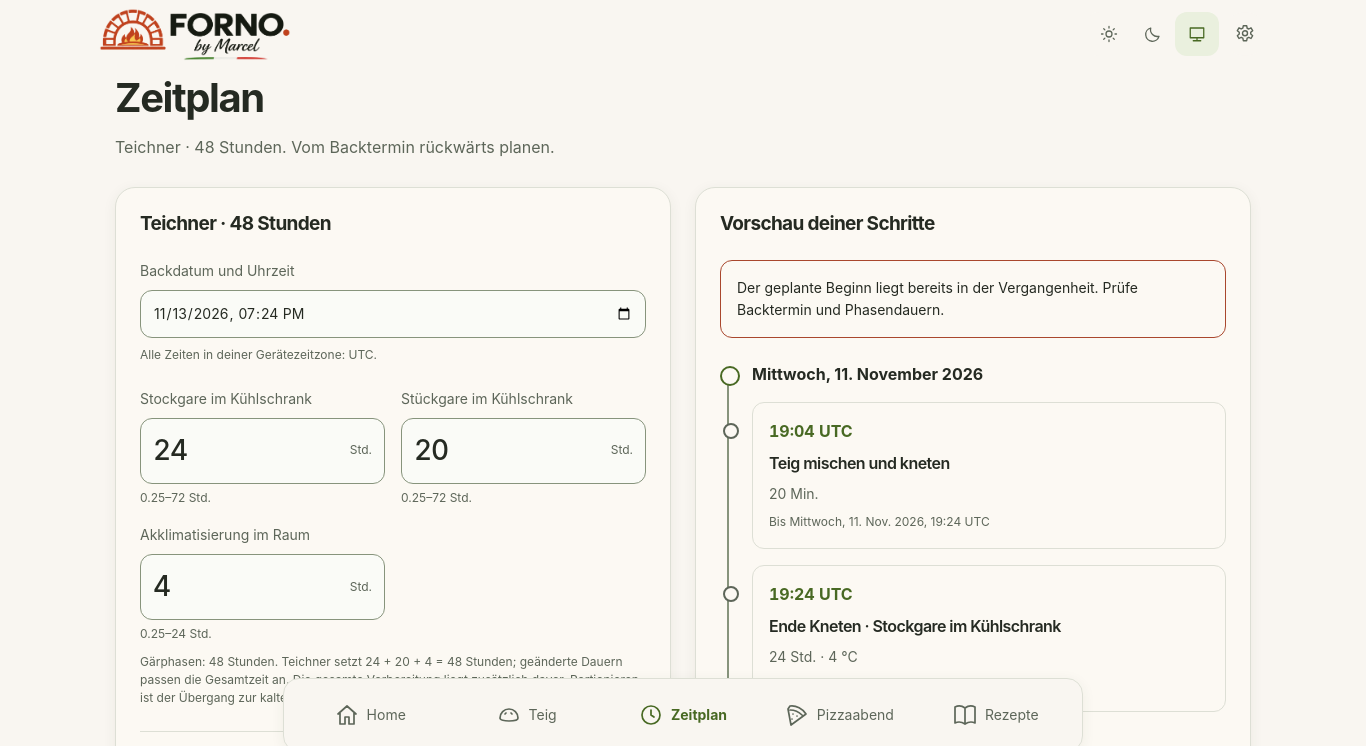
P2 schedule integration › previews edits, saves explicitly and exposes the next planned step on Home without touching the formula
Step 1. Replace the text in the field labelled "Stockgare im Kühlschrank Std. 0.25–72 Std." with "3,5" → (247, 450), box [153,426,342,474]
(page scrolled)
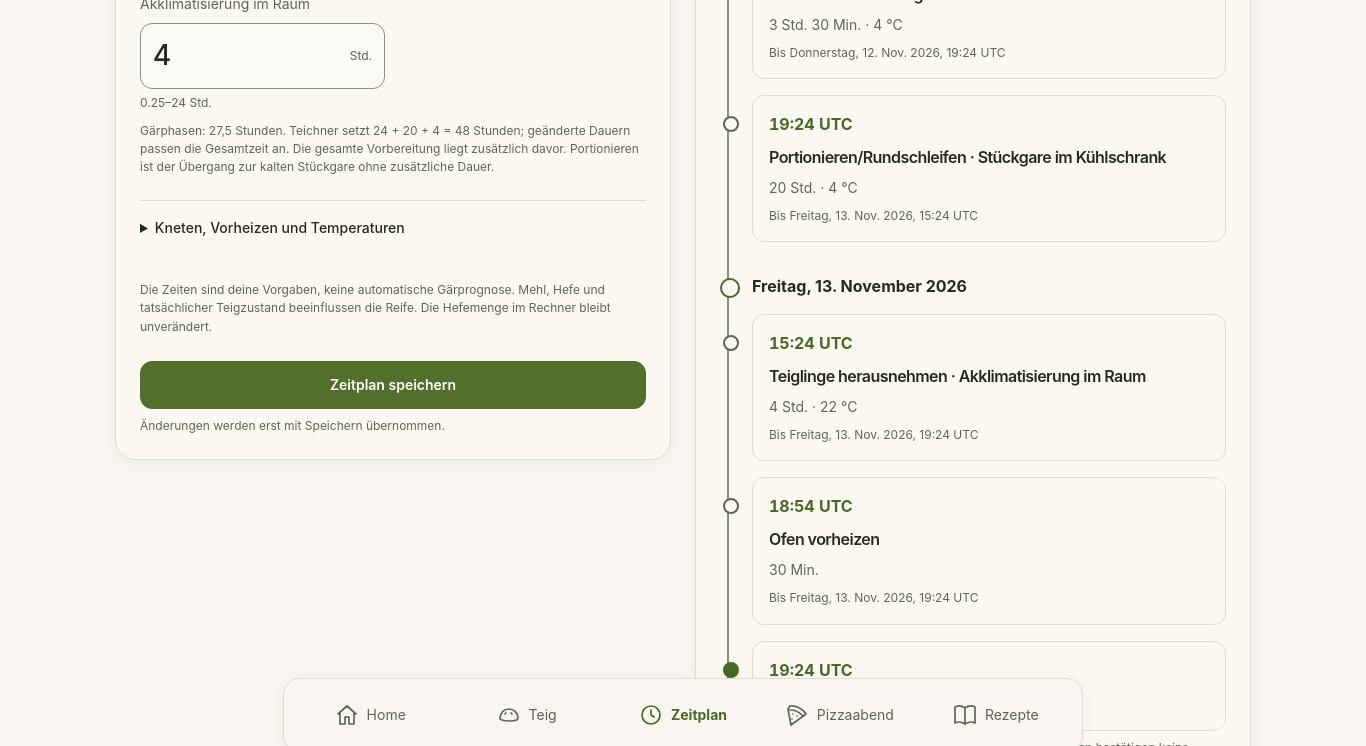
Step 2. Click the button "Zeitplan speichern" → (393, 385), box [140,361,646,409]
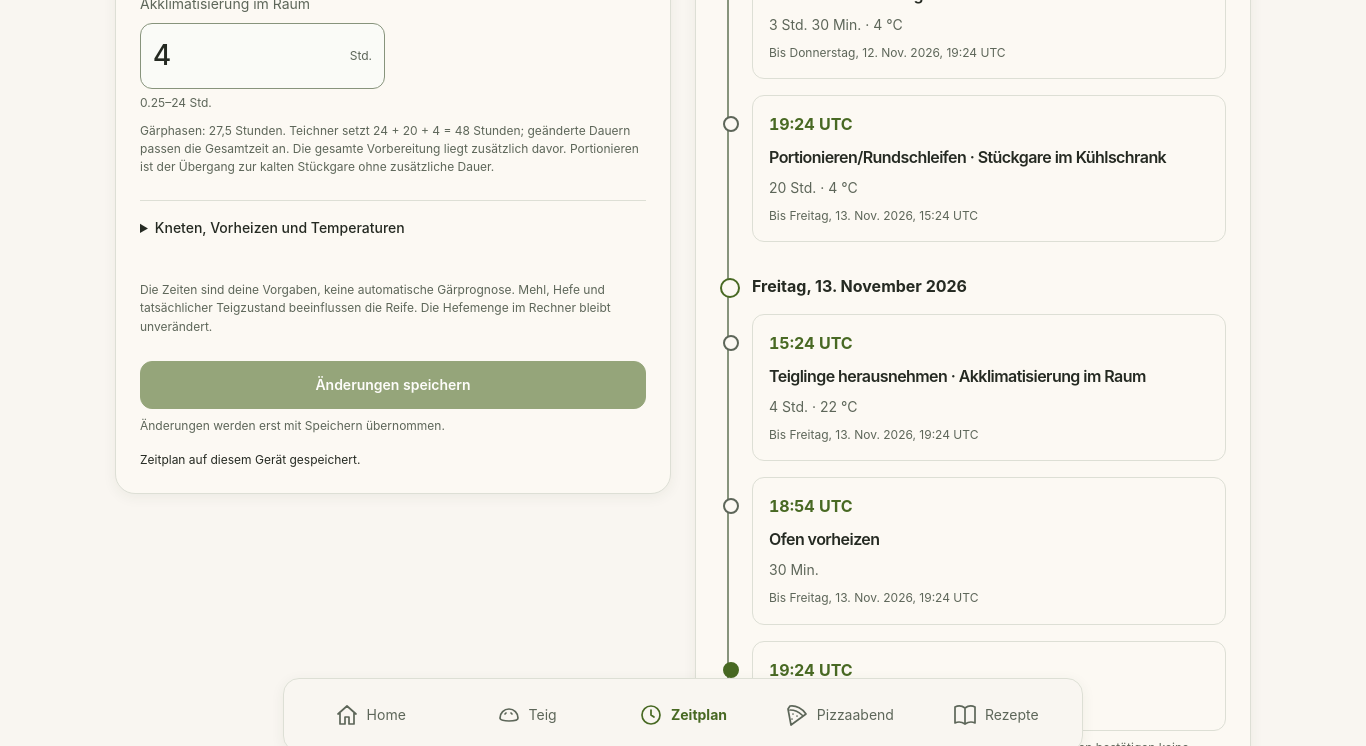
Expected: the text "Zeitplan auf diesem Gerät gespeichert." is shown, [140,452,360,467]
Step 3. Click the link "Home" → (370, 715), box [335,703,406,727]
(page scrolled)
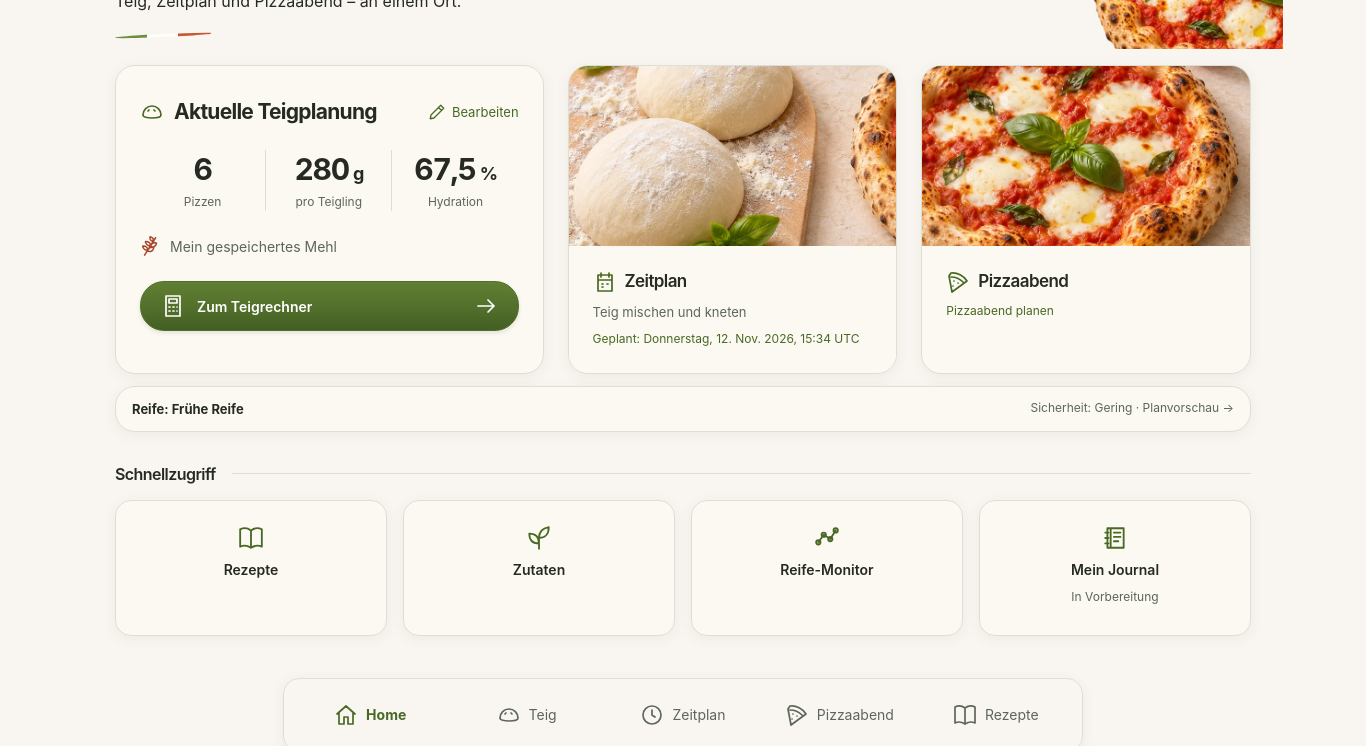
Expected: the text "Teig mischen und kneten" is shown, [593,304,746,320]
